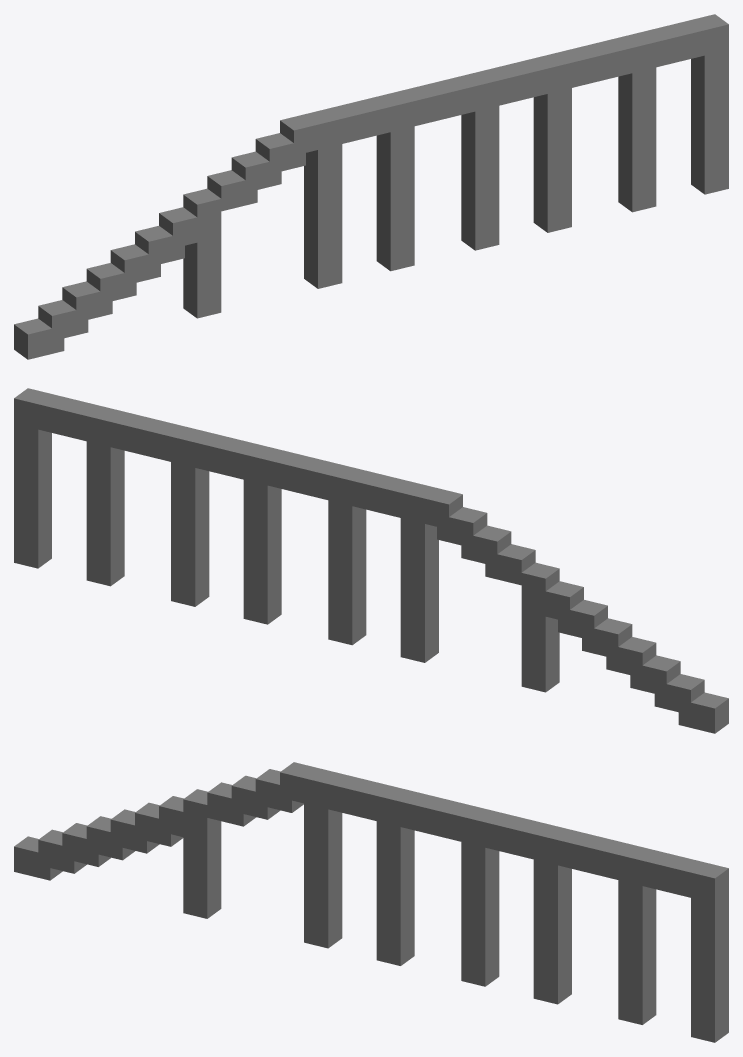
File: SKATE_3.dae
3 renders of one model, top to bottom at view 1: azimuth 30°, elevation 25°; view 2: azimuth 150°, elevation 25°; view 3: azimuth 330°, elevation 25°, orthographic.
Visible parts, largest first — view 1: Content; view 2: Content; view 3: Content.
Boxes of the visible parts, bbox=[...] form: Content: bbox=[14, 14, 728, 359]; Content: bbox=[14, 388, 728, 733]; Content: bbox=[14, 762, 728, 1042].
Bounding box in the file's own units: 58 × 13 × 2.
1 material, 1 textured.
